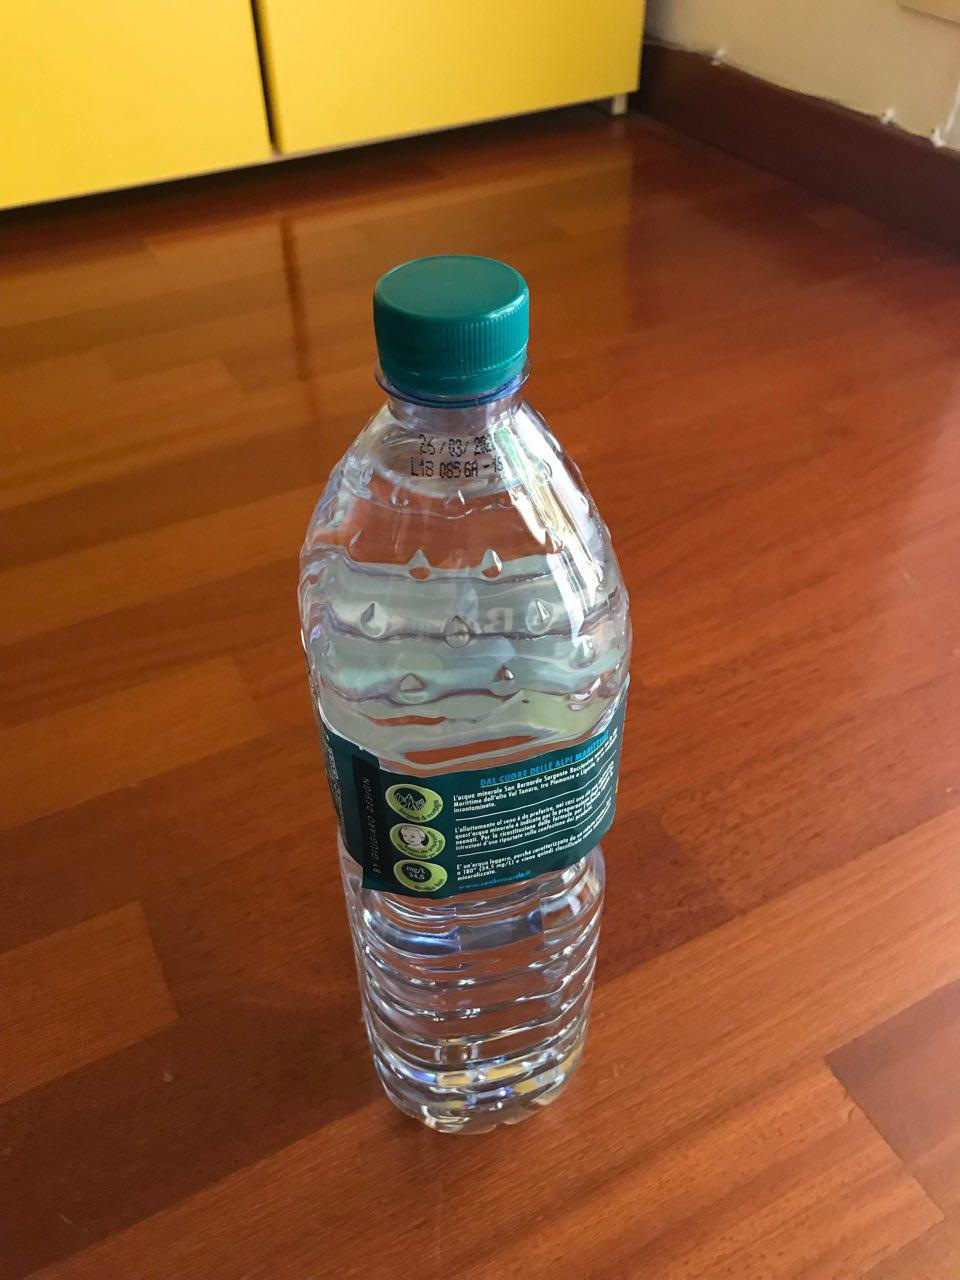san_bernardo: (295, 252, 635, 1138)
